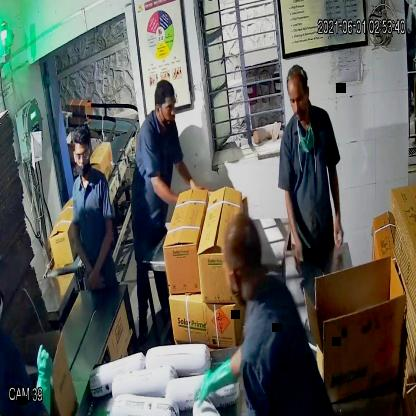goggles: (70, 143, 95, 167)
no_goggles: (283, 86, 313, 111)
